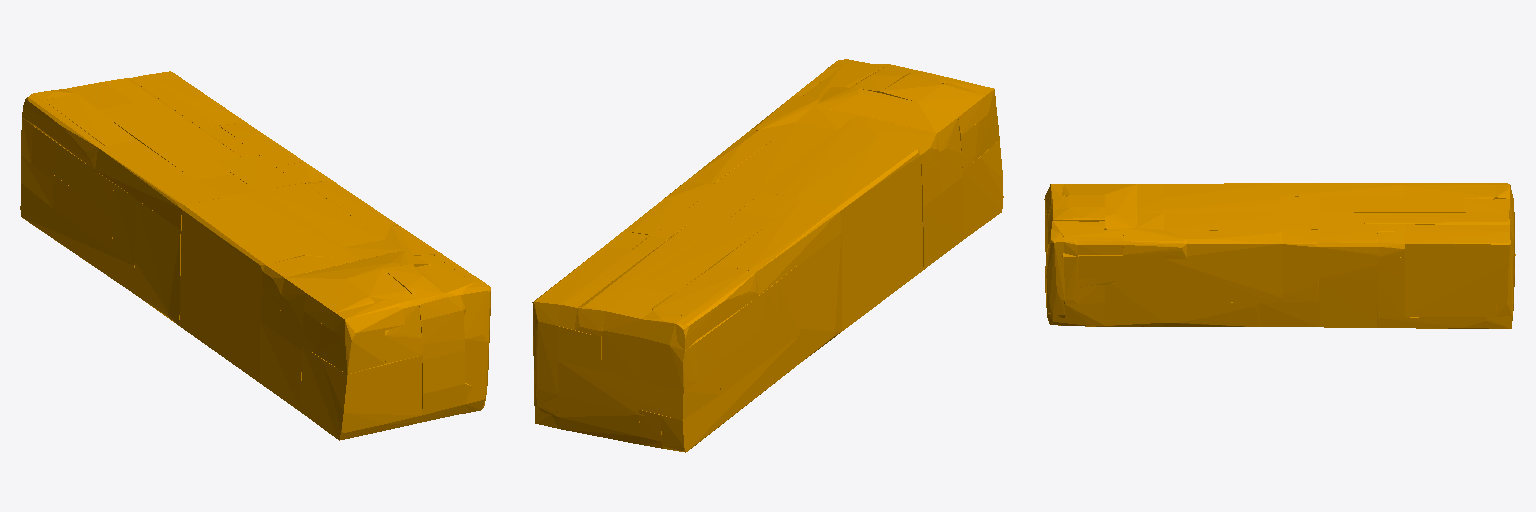
robot.urdf — box-wasabi:
<?xml version="1.0" ?>
<robot name="box-wasabi">
  <link name="baseLink">
    <contact>
      <lateral_friction value="1.0"/>
      <inertia_scaling value="3.0"/>
    </contact>
    <inertial>
      <origin rpy="0 0 0" xyz="0.000 0.000 0.000"/>
       <mass value=".1"/>
       <inertia ixx="1" ixy="0.0" ixz="0.0" iyy="1" iyz="0.0" izz="1"/>
    </inertial>
    <visual>
      <origin rpy="0 0 0" xyz="0 0 0"/>
      <geometry>
        <mesh filename="box/box-wasabi.obj" scale="1.0 1.0 1.0"/>
      </geometry>
    </visual>
    <collision>
      <origin rpy="0 0 0" xyz="0 0 0"/>
      <geometry>
        <mesh filename="../collision/box/box-wasabi.obj" scale="1.0 1.0 1.0"/>
      </geometry>
    </collision>
  </link>
</robot>
        

--- Render facts (derived) ---
Views: 3 orthographic renders of the robot side by side, from view 1: azimuth 30°, elevation 25°; view 2: azimuth 150°, elevation 25°; view 3: azimuth 270°, elevation 25°.
Robot: box-wasabi — 1 links, 0 joints (none); root link baseLink; default pose: all joints at 0.
Links seen in each view (by area): view 1: baseLink; view 2: baseLink; view 3: baseLink.
Link boxes in pixels (<box>): baseLink: <box>20,71,490,440</box>; baseLink: <box>532,59,1003,452</box>; baseLink: <box>1044,183,1515,328</box>.
Size in the robot's own frame: 0.0444 by 0.1492 by 0.0353 metres.
Meshes: 1 distinct files referenced, 1 mesh visuals loaded (1 OBJ).